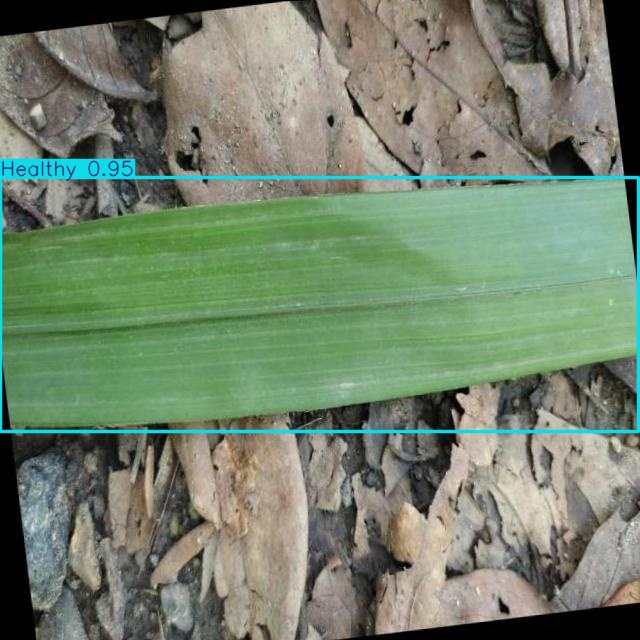Healthy: (0, 177, 638, 432)
